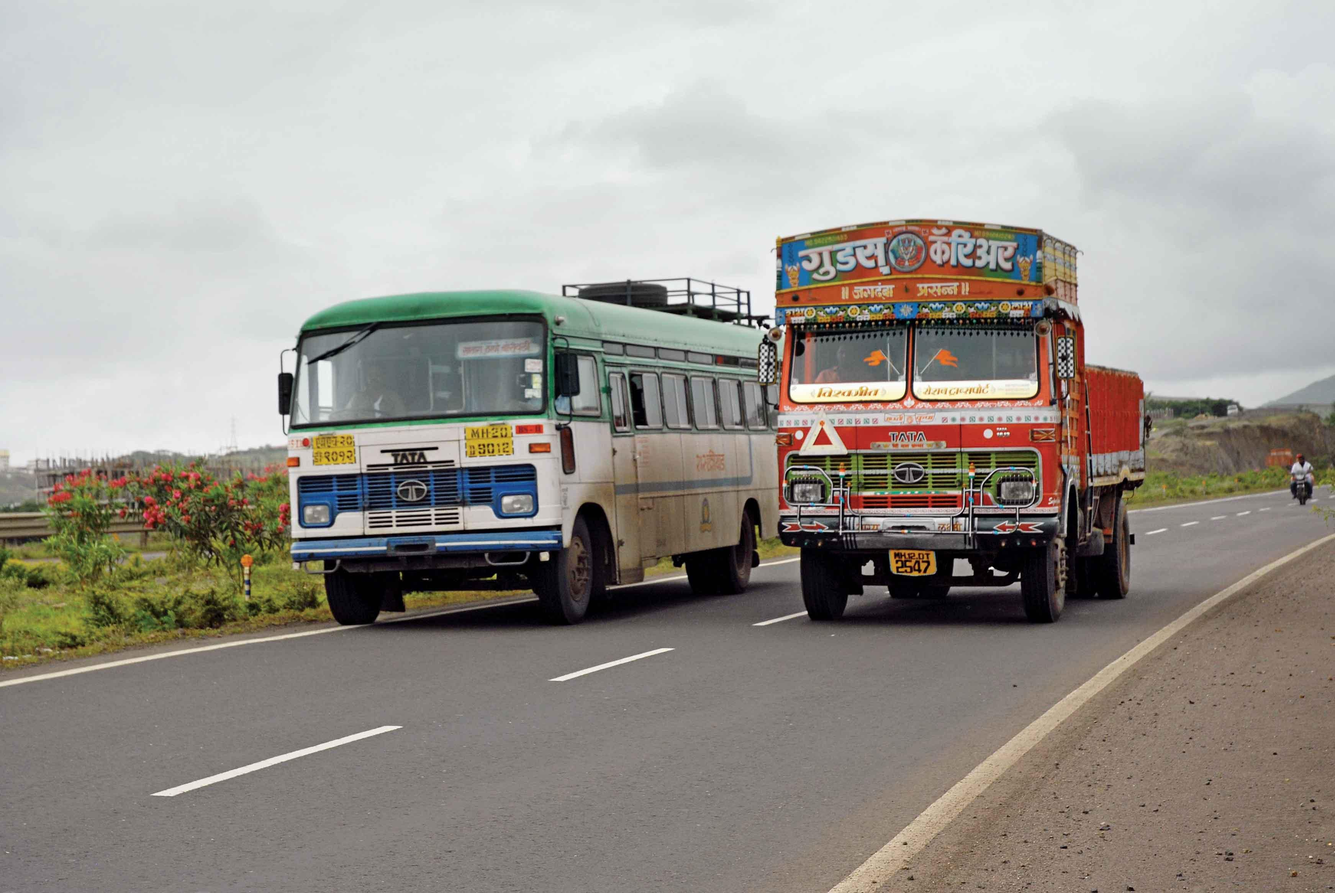Bus: (278, 291, 778, 627)
